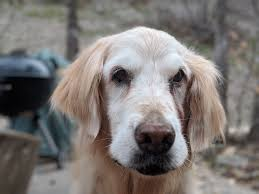Bulldog: (39, 17, 234, 194)
